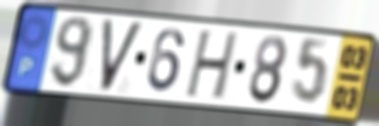5: (291, 35, 332, 112)
6: (146, 27, 186, 95)
8: (246, 33, 290, 106)
9: (50, 14, 96, 92)
H: (182, 29, 242, 103)
V: (99, 17, 147, 96)
